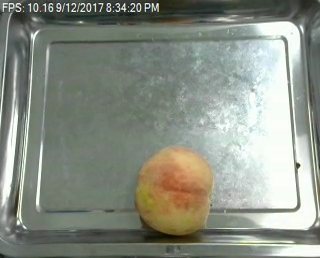Peach: (135, 144, 214, 236)
